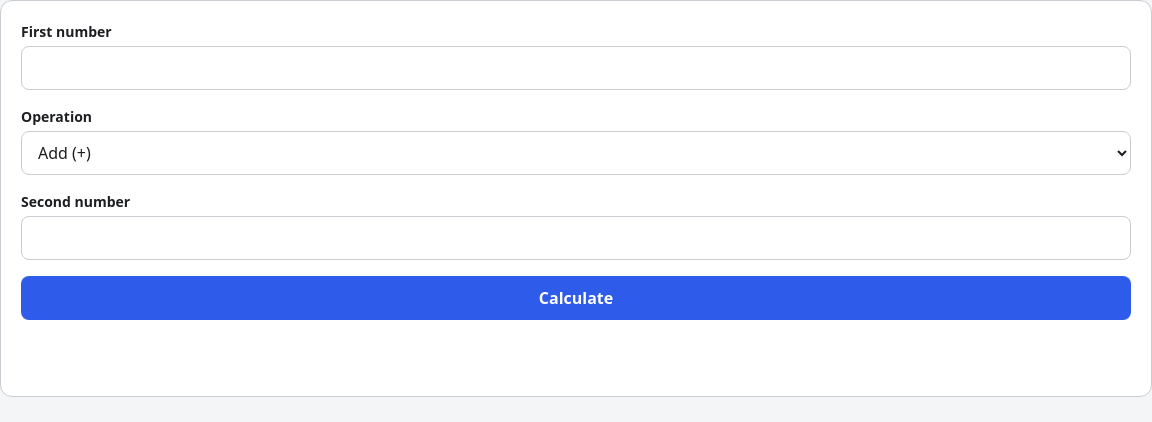
Test: CalculatorForm › rounds the displayed result
Type "0.1" into the field labelled "First number" at (576, 68), box [21, 46, 1131, 90]
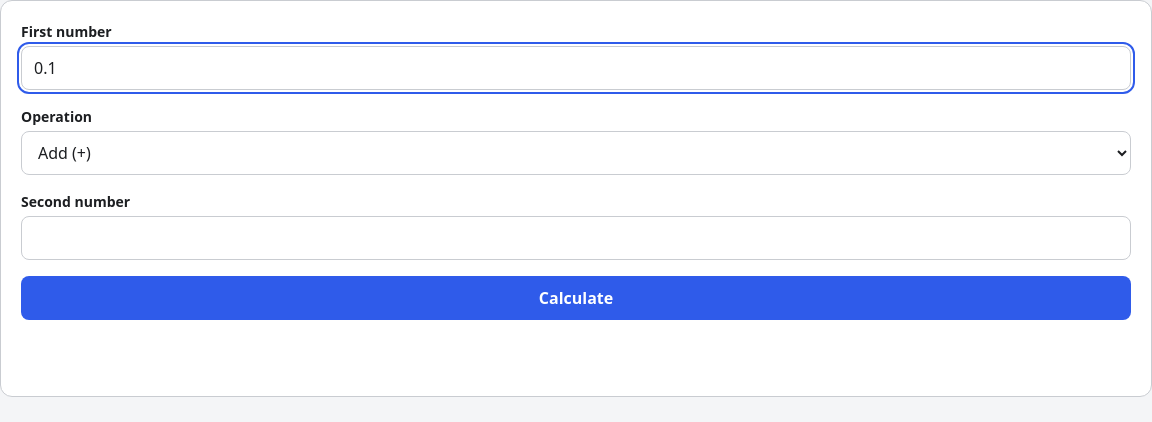
Select "Add (+)" in the dropdown labelled "Operation" at (576, 153), box [21, 131, 1131, 175]
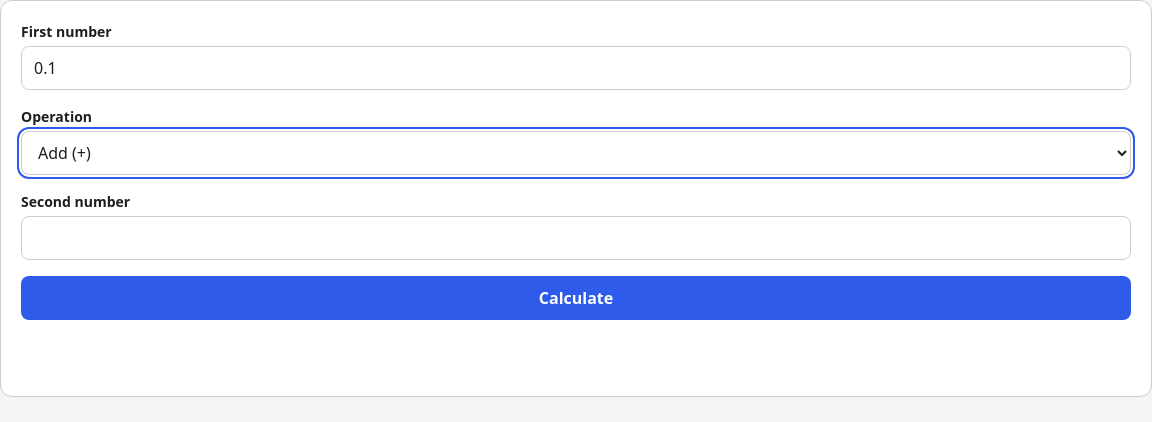
Type "0.2" into the field labelled "Second number" at (576, 238), box [21, 216, 1131, 260]
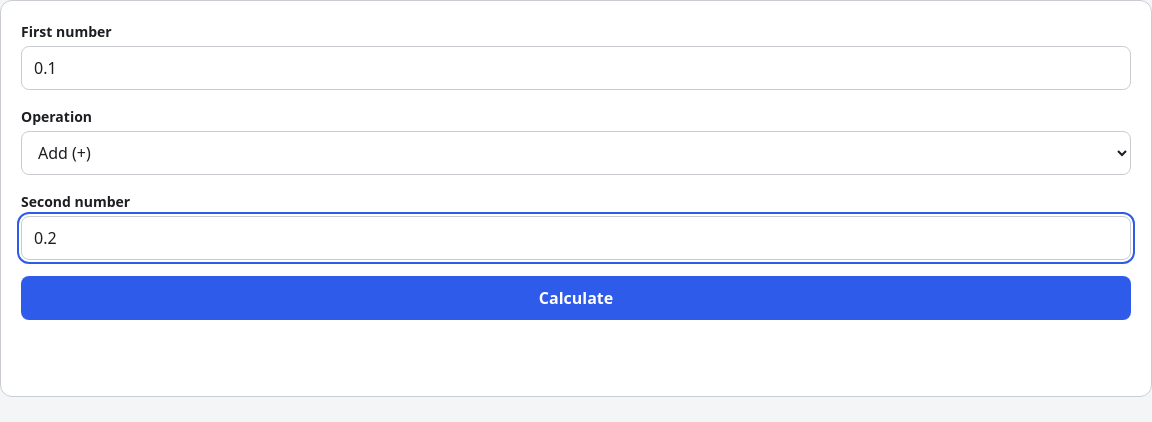
Click the button "Calculate" at (576, 298), box [21, 276, 1131, 320]
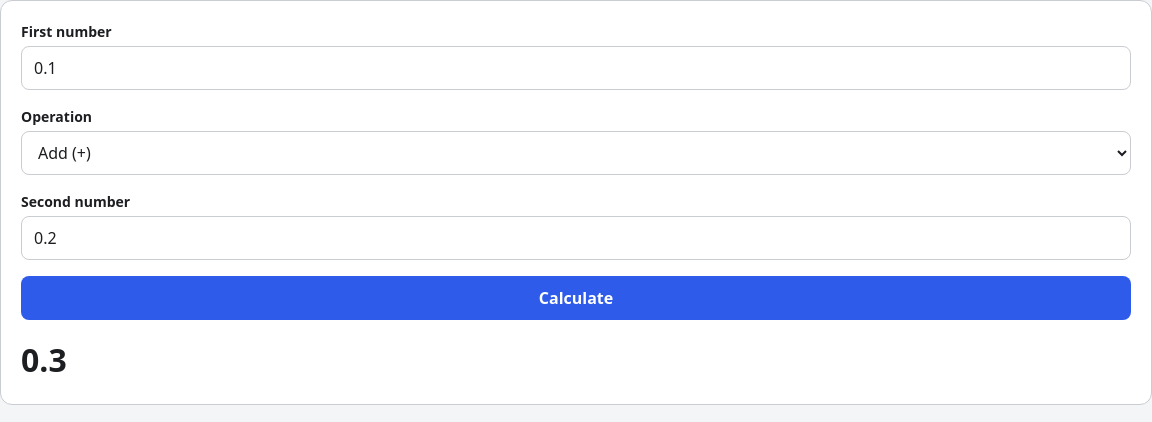
Now the text "0.3" is shown, box [21, 338, 67, 381]
